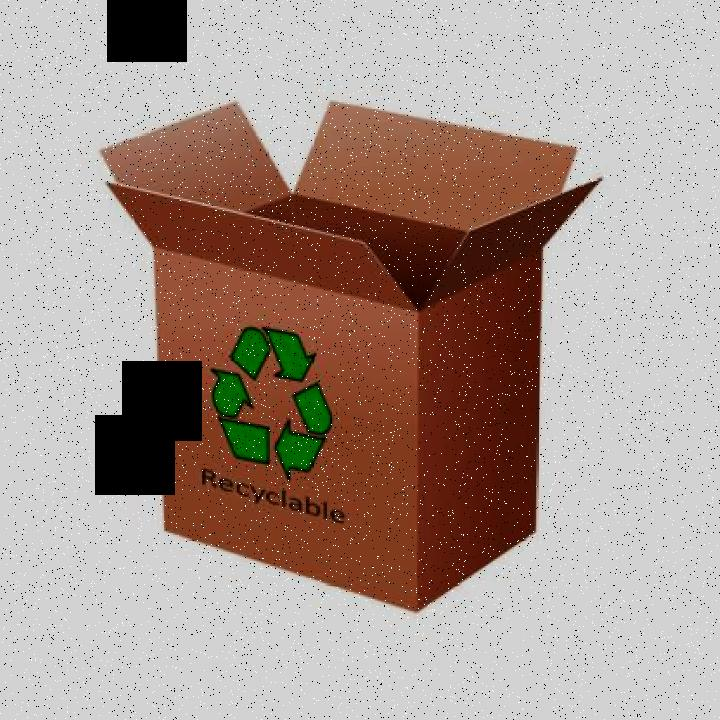box: (93, 91, 610, 626)
